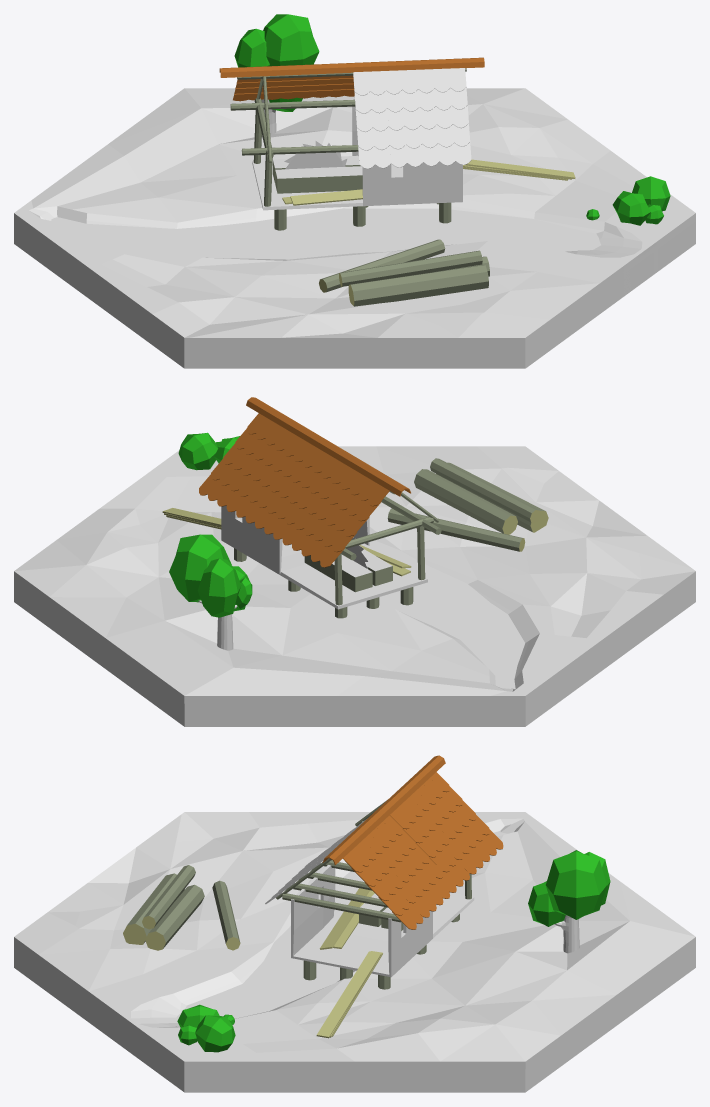
Rendered from sawmill.fbx.
3 views of the same model, one above another, from view 1: azimuth 30°, elevation 25°; view 2: azimuth 150°, elevation 25°; view 3: azimuth 270°, elevation 25° (orthographic).
Parts seen in each view (by area): view 1: Cylinder.004; view 2: Cylinder.004; view 3: Cylinder.004.
Part boxes in pixels (x1,y1,x2,y2): Cylinder.004: [14, 14, 695, 368]; Cylinder.004: [14, 397, 695, 726]; Cylinder.004: [14, 755, 695, 1092].
Bounding box in the file's own units: 173 × 54.09 × 200.
